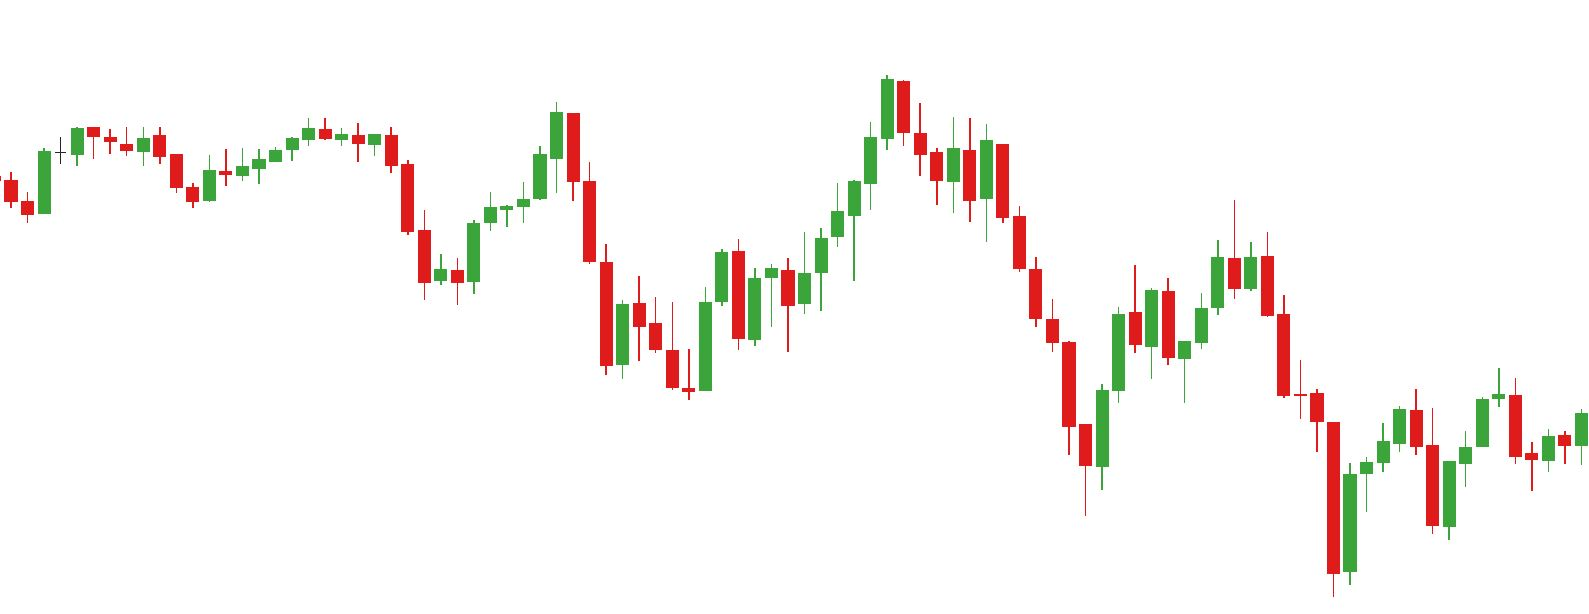sell: (317, 104, 581, 210), (1124, 199, 1242, 327)
